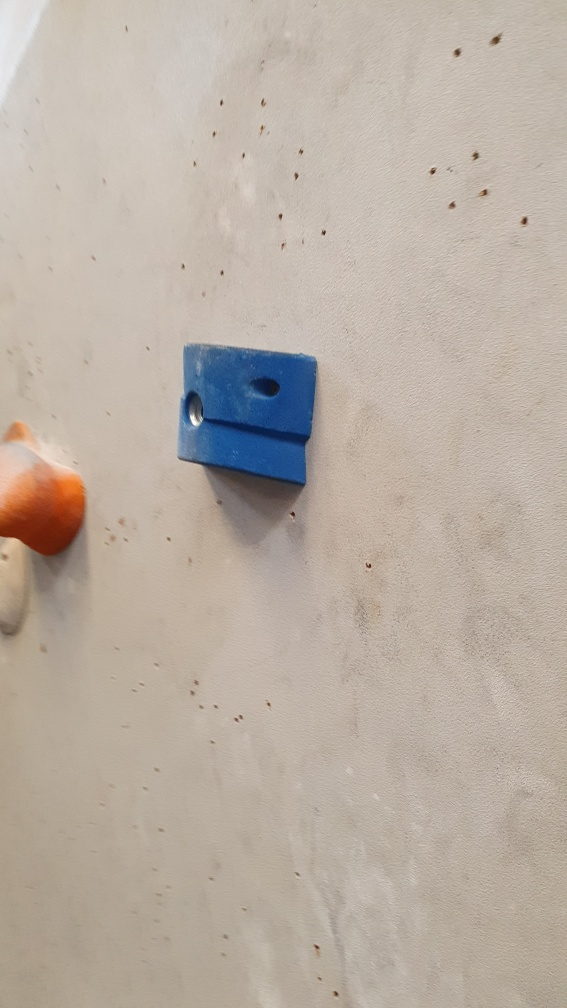Pinch: (176, 343, 321, 495)
